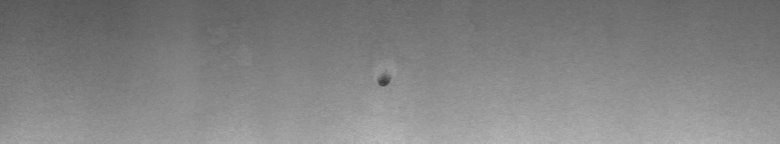fi: (373, 65, 396, 96)
